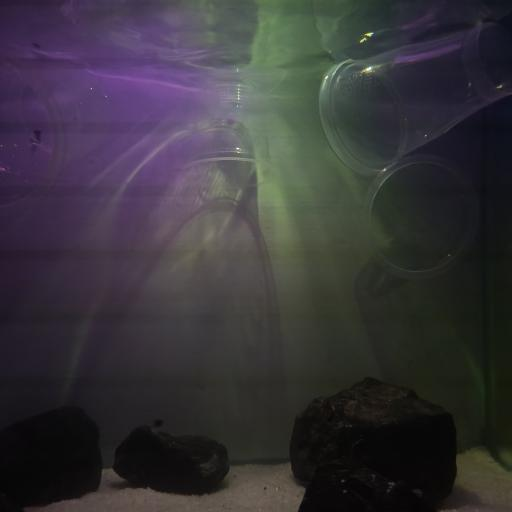plastic_cup: (318, 18, 511, 177), (2, 60, 114, 214), (359, 152, 480, 282), (177, 79, 279, 191)
